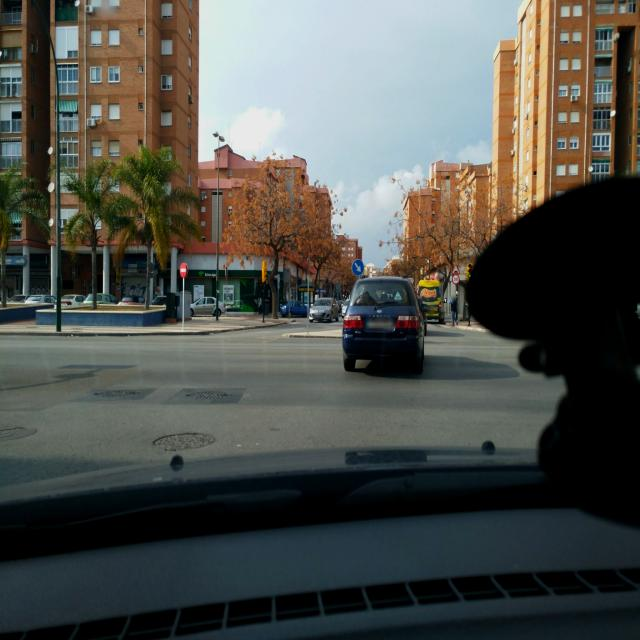car: (342, 275, 426, 374), (190, 296, 227, 318), (308, 297, 339, 323), (80, 292, 118, 308), (279, 300, 309, 318), (23, 294, 56, 307), (60, 294, 84, 306)
